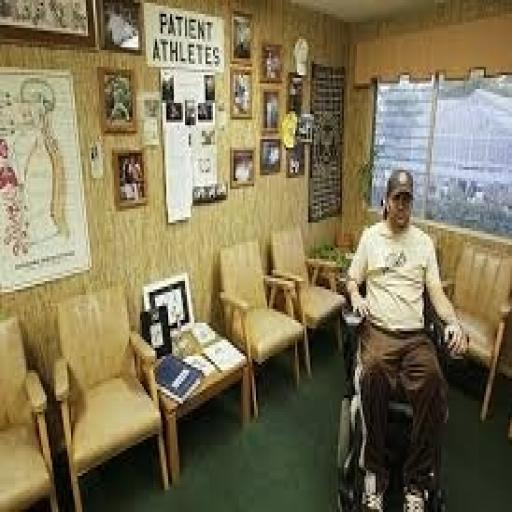sitting: (340, 164, 471, 509)
